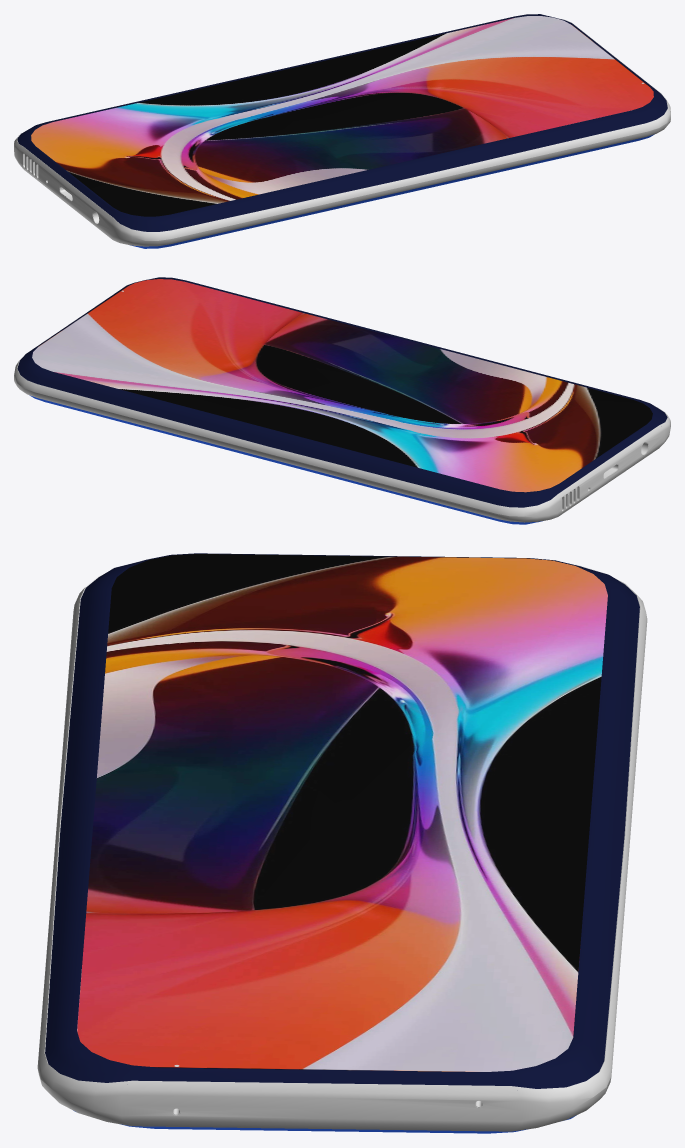
File: offbrand-android-smartphone.glb
The picture shows the model from 3 angles, top to bottom: view 1: azimuth 30°, elevation 25°; view 2: azimuth 150°, elevation 25°; view 3: azimuth 270°, elevation 25°; orthographic projection. The views are drawn at different scales.
Parts seen in each view (by area): view 1: Smartphone; view 2: Smartphone; view 3: Smartphone.
Part boxes in pixels (<box>): Smartphone: <box>14,14,670,248</box>; Smartphone: <box>14,277,670,524</box>; Smartphone: <box>37,553,647,1133</box>.
Bounding box in the file's own units: 392 × 21.65 × 188.
Materials: 8 (1 with a texture image).
